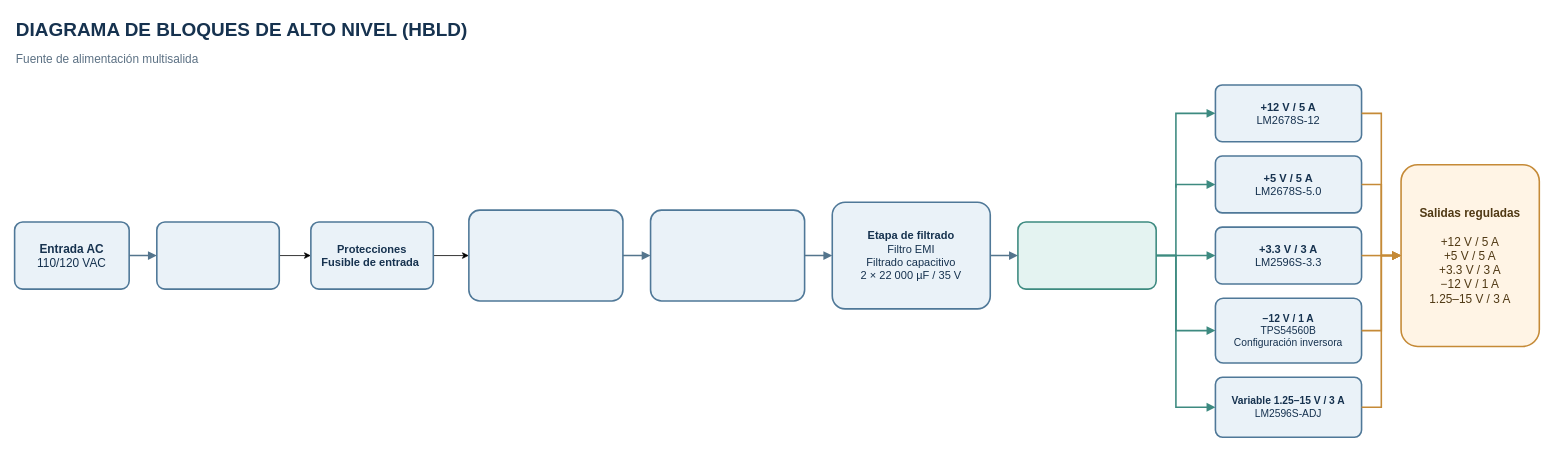
This 1553x451 diagram has some shape labels left out. Each missing label, with the centre of its shape:
Bus de alimentación VIN DC ≈ 24 V: the point at 1087,255
Interruptor SPST 250 VAC / 10 A: the point at 218,255
Rectificador Puente rectificador KBPC3510 35 A / 1000 V: the point at 727,255
Transformador 18-0-18 VAC / 5 A / 60 Hz Se utilizará una sección de 18 VAC: the point at 545,255
